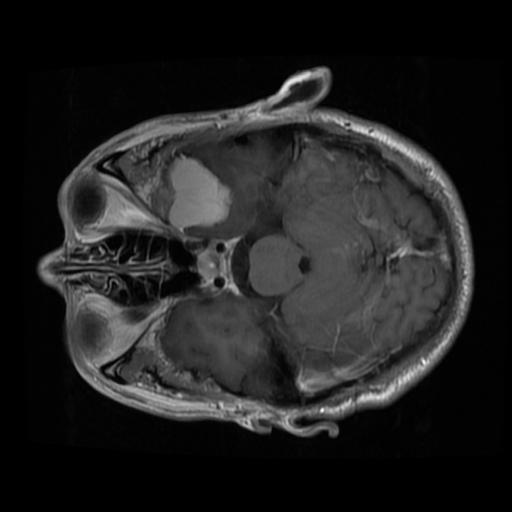meningioma: (168, 154, 233, 232)
